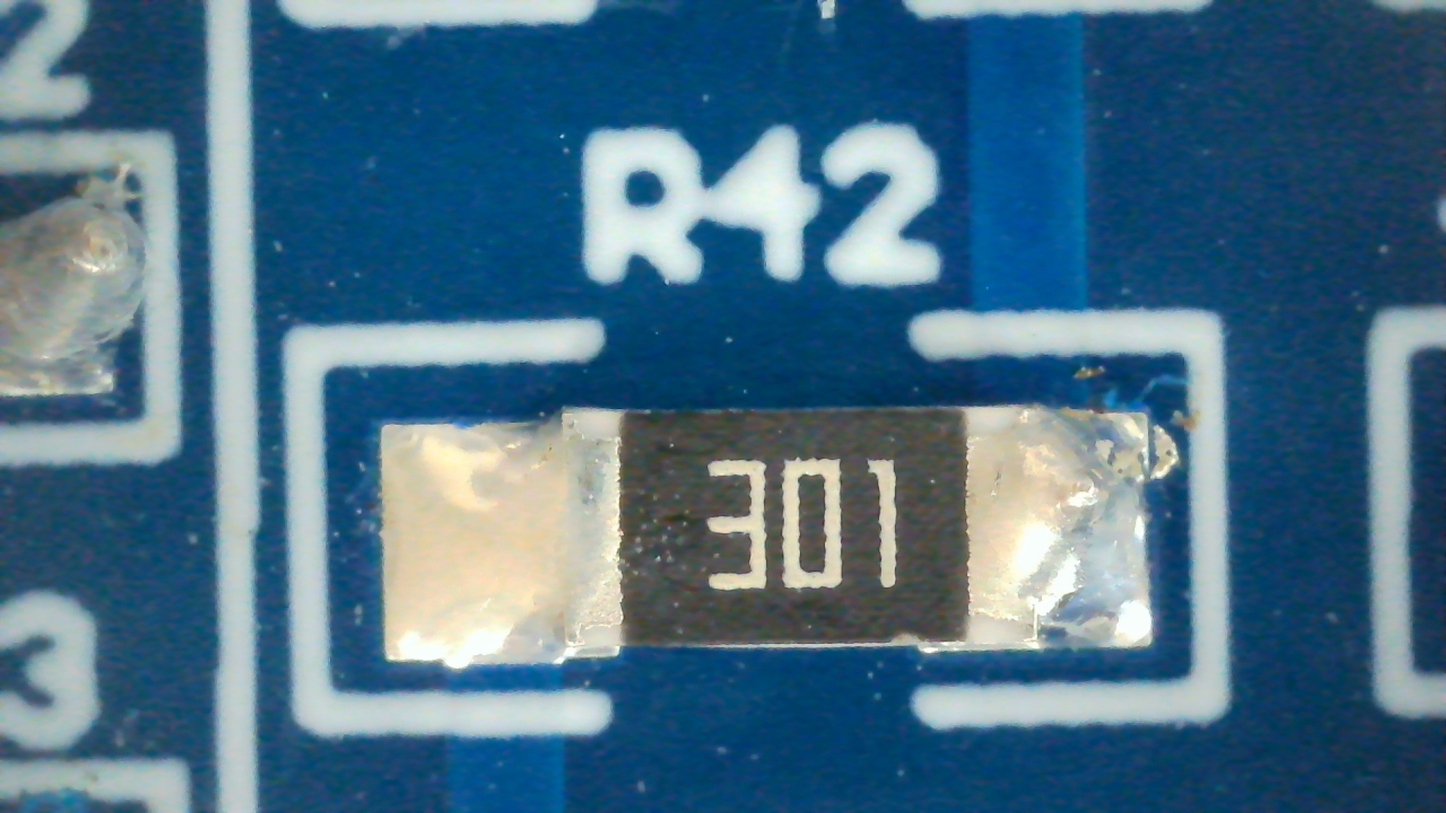OK: (384, 408, 1152, 667)
